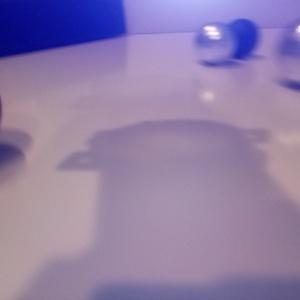alive_ball: (274, 18, 300, 87), (193, 22, 236, 62)
dead_ball: (225, 18, 259, 56)
